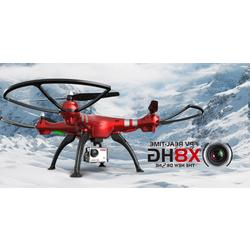drone: (1, 76, 207, 181)
